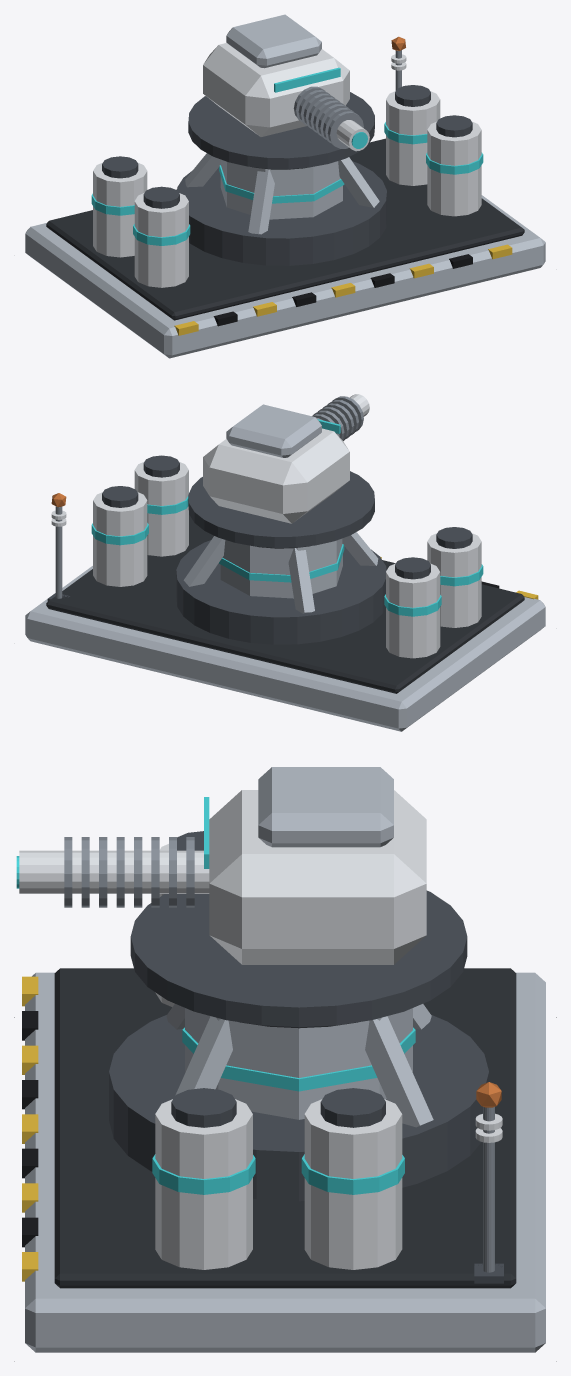
File: tourelle_laser.glb
The picture shows the model from 3 angles, top to bottom: view 1: azimuth 30°, elevation 25°; view 2: azimuth 150°, elevation 25°; view 3: azimuth 270°, elevation 25°; orthographic projection. The views are drawn at different scales.
Parts seen in each view (by area): view 1: pieces_gris_clair.002, pieces_fonte.006, couronne.006, tourelle_blanc.002, tourelle_acier_sombre.006, fut.006, condensateur_1_0.002, condensateur_-1_0.002, condensateur_-1_1.002, condensateur_1_1.002, tourelle_gris_clair.002, pieces_acier_sombre.006 (+7 smaller); view 2: pieces_gris_clair.002, pieces_fonte.006, couronne.006, tourelle_blanc.002, tourelle_acier_sombre.006, fut.006, condensateur_-1_1.002, condensateur_1_1.002, condensateur_-1_0.002, condensateur_1_0.002, tourelle_gris_clair.002, pieces_acier_sombre.006 (+6 smaller); view 3: pieces_gris_clair.002, pieces_fonte.006, tourelle_blanc.002, tourelle_acier_sombre.006, couronne.006, condensateur_1_1.002, condensateur_1_0.002, fut.006, tourelle_gris_clair.002, pieces_acier_sombre.006, tourelle_acier.004, pieces_cyan.002 (+5 smaller).
Part boxes in pixels (left/top/right/bottom): pieces_gris_clair.002: left=25, top=153, right=545, bottom=358; pieces_fonte.006: left=46, top=138, right=524, bottom=320; couronne.006: left=177, top=161, right=386, bottom=265; tourelle_blanc.002: left=203, top=43, right=369, bottom=151; tourelle_acier_sombre.006: left=188, top=92, right=374, bottom=169; fut.006: left=220, top=159, right=342, bottom=219; condensateur_1_0.002: left=427, top=121, right=481, bottom=216; condensateur_-1_0.002: left=134, top=193, right=188, bottom=287; condensateur_-1_1.002: left=93, top=162, right=147, bottom=257; condensateur_1_1.002: left=386, top=91, right=440, bottom=185; tourelle_gris_clair.002: left=226, top=14, right=321, bottom=68; pieces_acier_sombre.006: left=102, top=85, right=472, bottom=208; pieces_gris_clair.002: left=25, top=532, right=545, bottom=731; pieces_fonte.006: left=46, top=514, right=524, bottom=693; couronne.006: left=176, top=540, right=386, bottom=644; tourelle_blanc.002: left=203, top=394, right=369, bottom=523; tourelle_acier_sombre.006: left=188, top=471, right=374, bottom=547; fut.006: left=220, top=538, right=342, bottom=598; condensateur_-1_1.002: left=386, top=563, right=440, bottom=658; condensateur_1_1.002: left=93, top=492, right=147, bottom=586; condensateur_-1_0.002: left=427, top=533, right=481, bottom=627; condensateur_1_0.002: left=134, top=461, right=188, bottom=556; tourelle_gris_clair.002: left=226, top=404, right=321, bottom=457; pieces_acier_sombre.006: left=47, top=455, right=472, bottom=601; pieces_gris_clair.002: left=25, top=972, right=545, bottom=1352; pieces_fonte.006: left=54, top=968, right=516, bottom=1288; tourelle_blanc.002: left=19, top=790, right=426, bottom=964; tourelle_acier_sombre.006: left=130, top=890, right=467, bottom=1027; couronne.006: left=109, top=1014, right=488, bottom=1201; condensateur_1_1.002: left=304, top=1099, right=402, bottom=1269; condensateur_1_0.002: left=155, top=1099, right=252, bottom=1269; fut.006: left=185, top=1008, right=412, bottom=1119; tourelle_gris_clair.002: left=258, top=767, right=393, bottom=847; pieces_acier_sombre.006: left=171, top=831, right=503, bottom=1283; tourelle_acier.004: left=64, top=837, right=194, bottom=907; pieces_cyan.002: left=182, top=1027, right=415, bottom=1091.
Bounding box in the file's own units: 1.5 × 0.8125 × 1.
